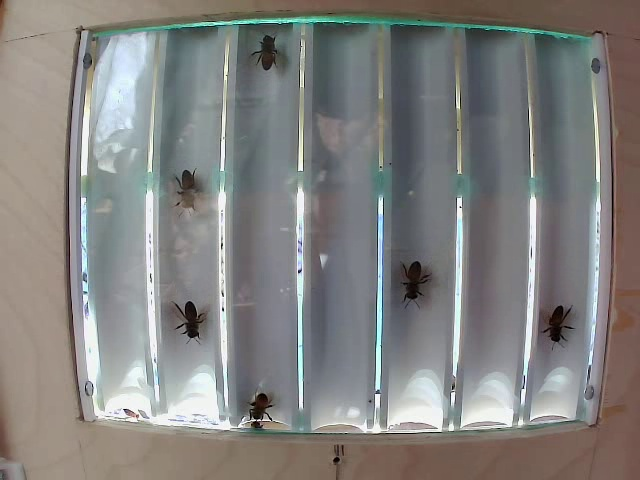bee: (534, 288, 578, 334), (172, 159, 207, 206), (404, 259, 439, 299), (174, 303, 209, 339), (259, 32, 287, 68), (247, 399, 268, 432)
